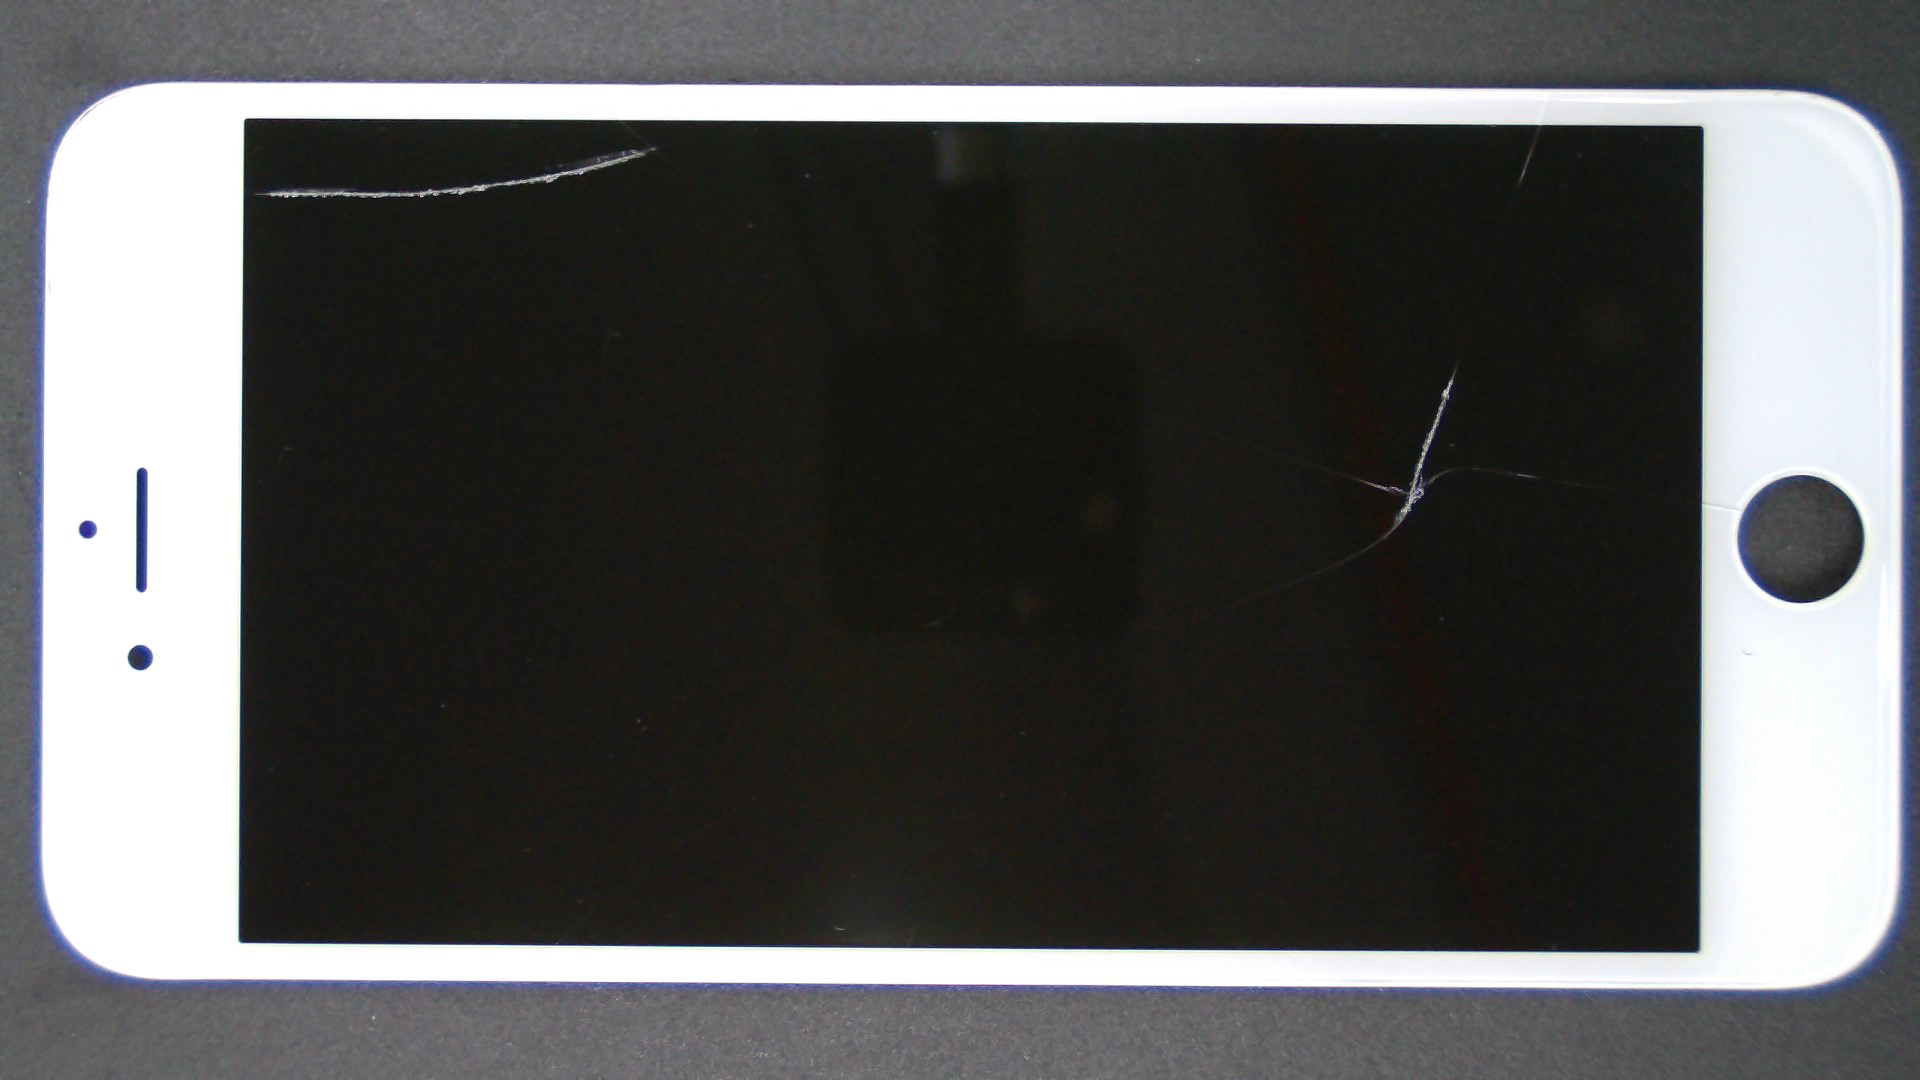defect: (255, 146, 655, 196), (1360, 363, 1456, 547), (1516, 131, 1536, 185)
